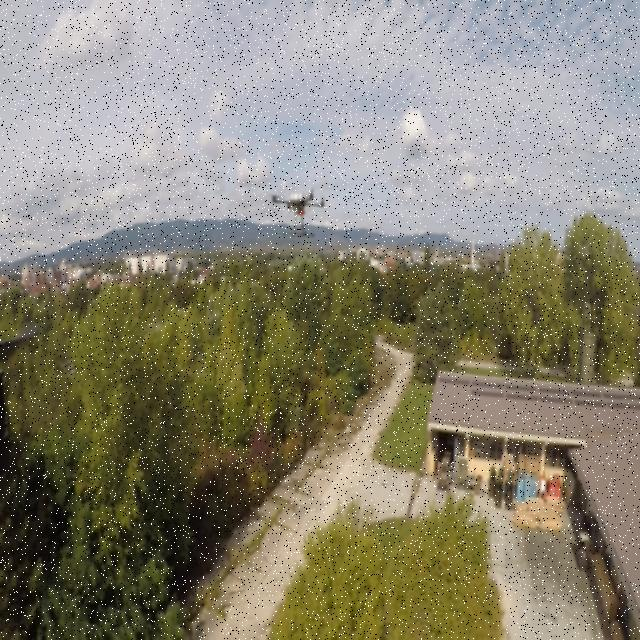UAV: (261, 181, 335, 234)
